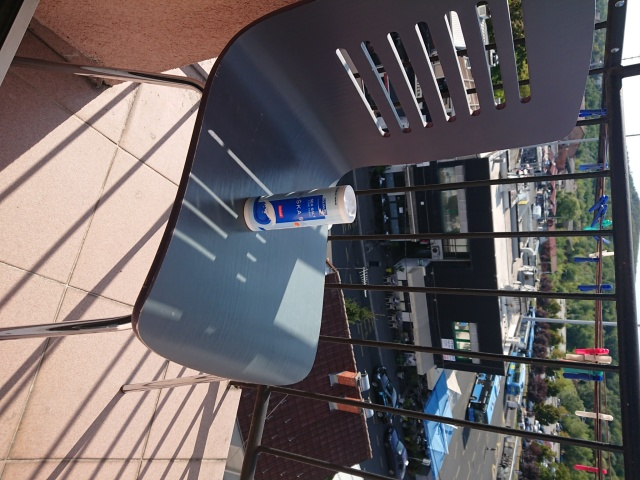Solana Pag Fine Sea Salt 250g: (241, 182, 358, 233)
